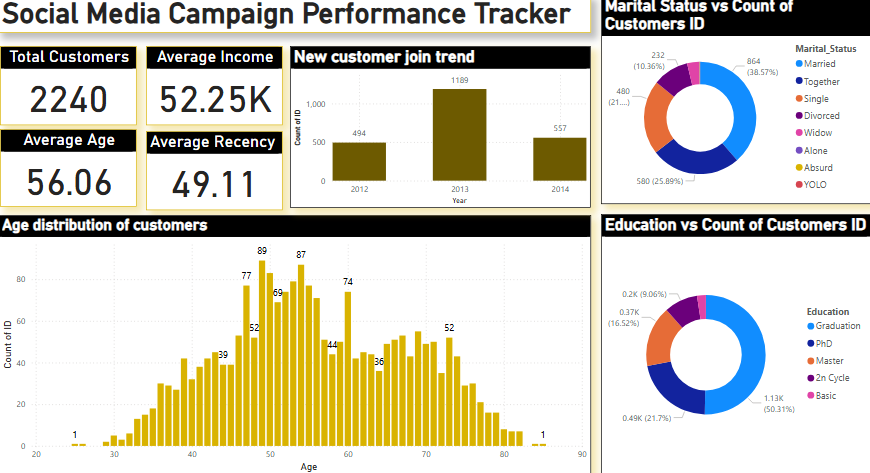

Layout of this report page (visuals, bound fields, positions):
{"tool":"powerbi","page":{"name":"Page 1","canvas":[1280,720],"ordinal":0},"visuals":[{"type":"card","title":"Total Customers","fields":{"Values":["CountNonNull(cleaned_marketing_data.ID)"]},"box":[3.5,86.3,200.5,115.6],"z":0},{"type":"card","title":"Average Income","fields":{"Values":["Avg(cleaned_marketing_data.Income)"]},"box":[217.1,86.3,200.5,115.6],"z":1000},{"type":"card","title":"Average Age","fields":{"Values":["Avg(cleaned_marketing_data.Age)"]},"box":[3.5,207.8,200.5,114.1],"z":2000},{"type":"card","title":"Average Recency ","fields":{"Values":["Avg(cleaned_marketing_data.Recency)"]},"box":[217.1,210.7,200.5,115.6],"z":3000},{"type":"textbox","title":"Social Media Campaign Performance Tracker","box":[0,13.2,867.8,54.1],"z":4000},{"type":"columnChart","title":"Age distribution of customers","fields":{"Category":["cleaned_marketing_data.Age"],"Y":["CountNonNull(cleaned_marketing_data.ID)"]},"box":[0,333.7,867.8,382],"z":5000},{"type":"donutChart","title":"Marital Status vs Count of Customers ID","fields":{"Category":["cleaned_marketing_data.Marital_Status"],"Y":["CountNonNull(cleaned_marketing_data.ID)"]},"box":[882.4,11.7,395.1,305.9],"z":6000},{"type":"donutChart","title":"Education vs Count of Customers ID","fields":{"Category":["cleaned_marketing_data.Education"],"Y":["CountNonNull(cleaned_marketing_data.ID)"]},"box":[882.4,332.2,395.1,384.9],"z":7000},{"type":"clusteredColumnChart","title":"New customer join trend","fields":{"Category":["cleaned_marketing_data.Dt_Customer.Variation.Date Hierarchy.Year","cleaned_marketing_data.Dt_Customer.Variation.Date Hierarchy.Month"],"Y":["CountNonNull(cleaned_marketing_data.ID)"]},"box":[427.3,86.3,440.5,237.1],"z":8000}]}

Visuals, with their boxes on the page's 1280x720 design canvas (x1, y1, x2, y2). These are canvas units, not pixel positions in the 870x473 screenshot, which may show the page scaled, cropped or inside an application window:
"Total Customers" card: {"left": 4, "top": 86, "right": 204, "bottom": 202}
"Average Income" card: {"left": 217, "top": 86, "right": 418, "bottom": 202}
"Average Age" card: {"left": 4, "top": 208, "right": 204, "bottom": 322}
"Average Recency " card: {"left": 217, "top": 211, "right": 418, "bottom": 326}
"Social Media Campaign Performance Tracker" textbox: {"left": 0, "top": 13, "right": 868, "bottom": 67}
"Age distribution of customers" columnChart: {"left": 0, "top": 334, "right": 868, "bottom": 716}
"Marital Status vs Count of Customers ID" donutChart: {"left": 882, "top": 12, "right": 1278, "bottom": 318}
"Education vs Count of Customers ID" donutChart: {"left": 882, "top": 332, "right": 1278, "bottom": 717}
"New customer join trend" clusteredColumnChart: {"left": 427, "top": 86, "right": 868, "bottom": 323}
